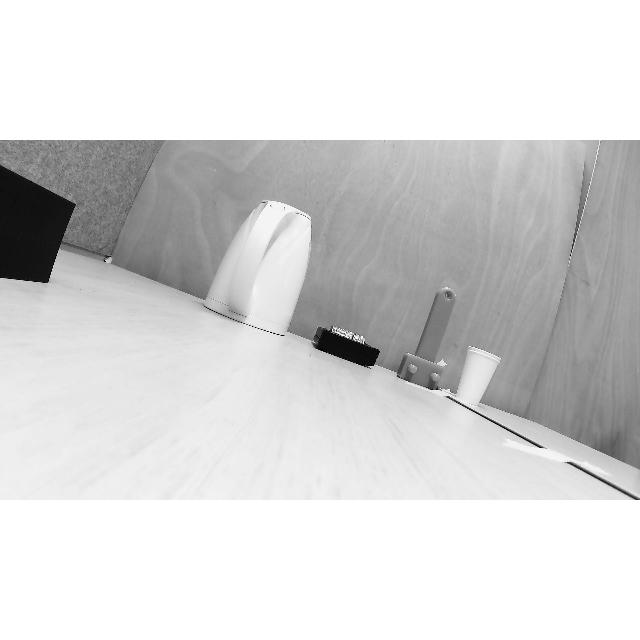targets: (205, 202, 312, 336), (0, 159, 81, 283), (394, 288, 458, 390), (312, 324, 383, 370), (458, 344, 504, 406)
